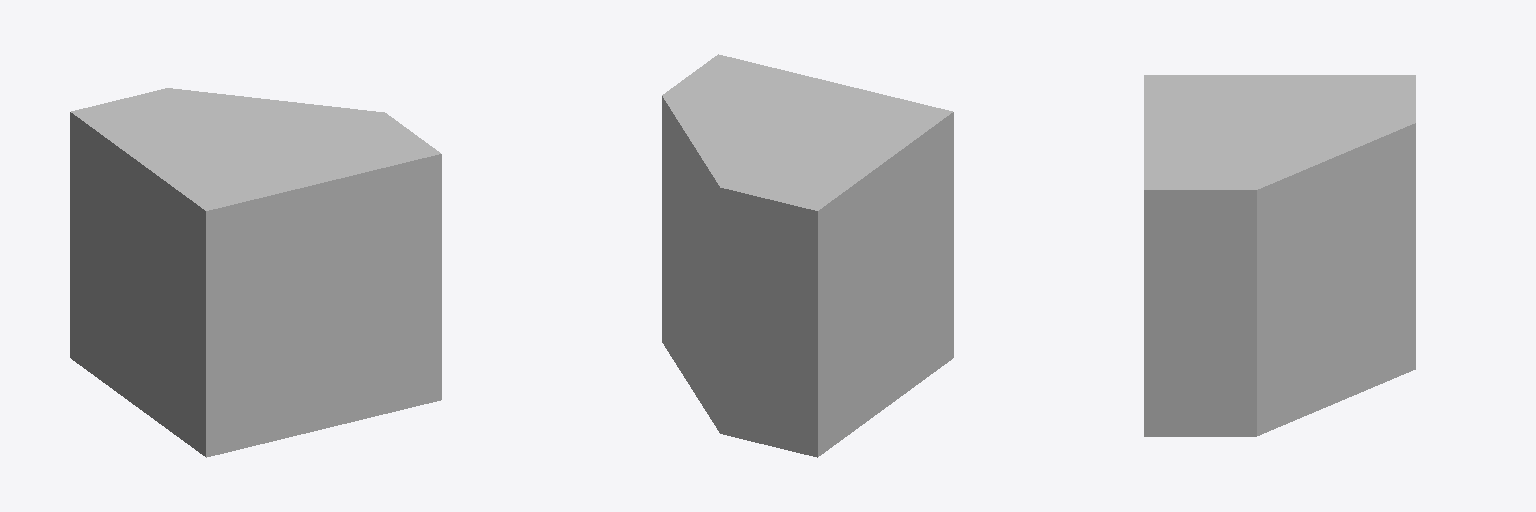
The model's file is struct_block_tapered.obj.
3 views of the same model, side by side, from view 1: azimuth 30°, elevation 25°; view 2: azimuth 150°, elevation 25°; view 3: azimuth 270°, elevation 25° (orthographic).
Visible parts, largest first — view 1: struct_block_tapered; view 2: struct_block_tapered; view 3: struct_block_tapered.
Part boxes in pixels (x1,y1,x2,y2): struct_block_tapered: (70,88,441,457); struct_block_tapered: (662,54,953,457); struct_block_tapered: (1144,75,1415,436).
Bounding box in the file's own units: 1 × 1 × 1.